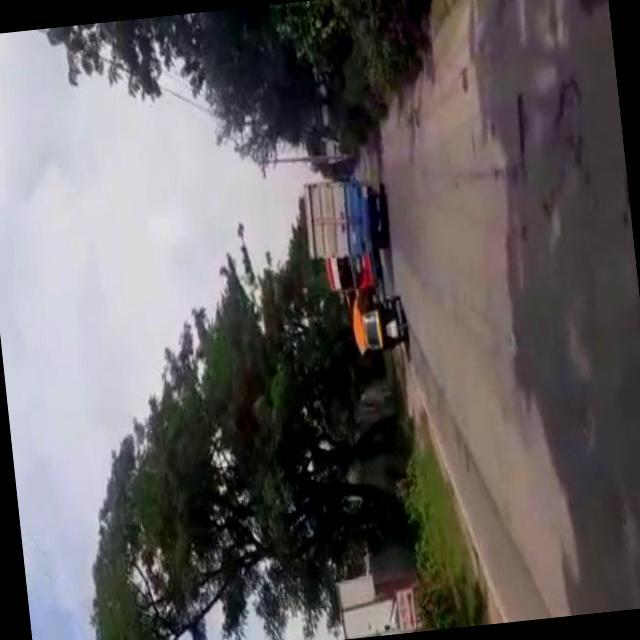bus: (325, 247, 374, 286)
motorcycle: (351, 294, 404, 352)
truck: (294, 168, 381, 262)
